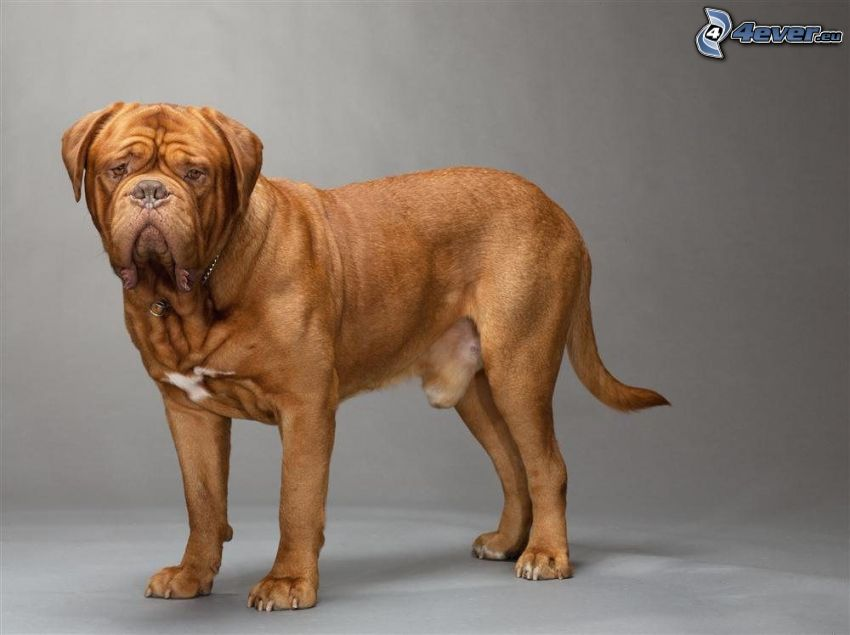dogue_de_bordeaux: (60, 101, 672, 612)
